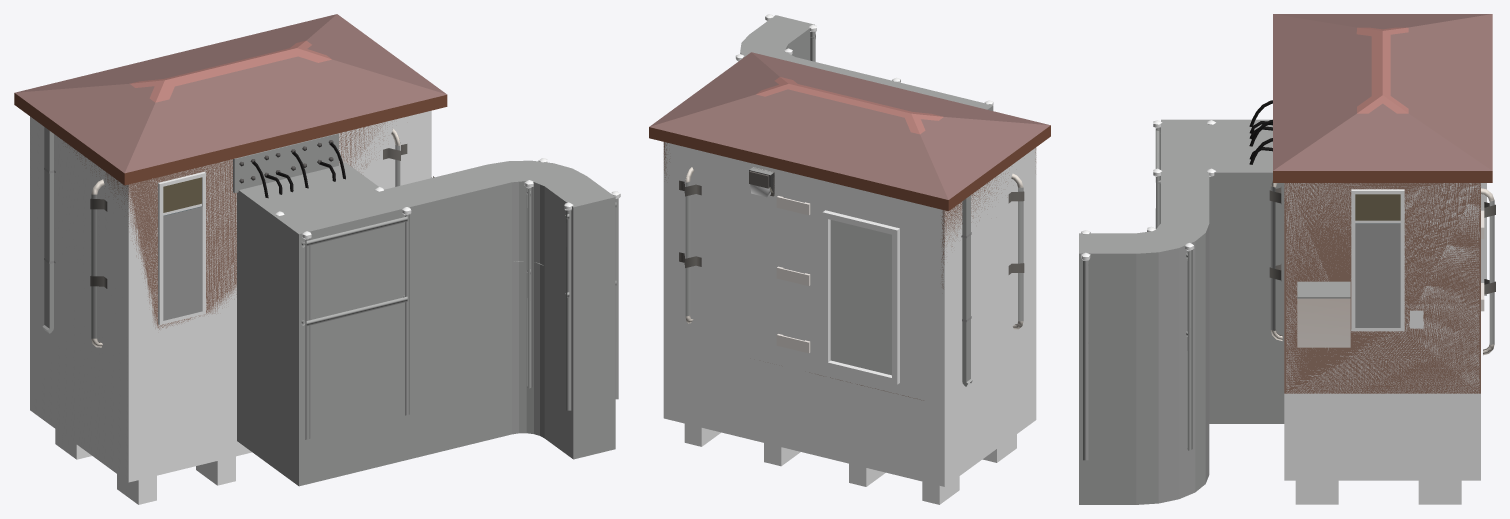
The model's file is shack_electrical.dae.
3 renders of one model, left to right at view 1: azimuth 30°, elevation 25°; view 2: azimuth 150°, elevation 25°; view 3: azimuth 270°, elevation 25°, orthographic. The views are drawn at different scales.
Parts seen in each view (by area): view 1: Colmesh-1, shack_electrical_a070, shack_electrical_a400, shack_electrical_a200; view 2: shack_electrical_a400, shack_electrical_a070, Colmesh-1, shack_electrical_a200; view 3: shack_electrical_a070, Colmesh-1, shack_electrical_a400, shack_electrical_a200.
Boxes of the visible parts, x1,y1,x2,y2 form: Colmesh-1: [30, 110, 615, 486]; shack_electrical_a070: [14, 14, 614, 338]; shack_electrical_a400: [44, 40, 620, 504]; shack_electrical_a200: [43, 131, 618, 439]; shack_electrical_a400: [665, 14, 1035, 504]; shack_electrical_a070: [649, 15, 1050, 400]; Colmesh-1: [663, 29, 1036, 486]; shack_electrical_a200: [740, 28, 993, 386]; shack_electrical_a070: [1079, 14, 1494, 393]; Colmesh-1: [1079, 119, 1480, 504]; shack_electrical_a400: [1081, 27, 1495, 504]; shack_electrical_a200: [1079, 127, 1283, 460].
Size of the model in its own units: 586 by 526 by 521.
